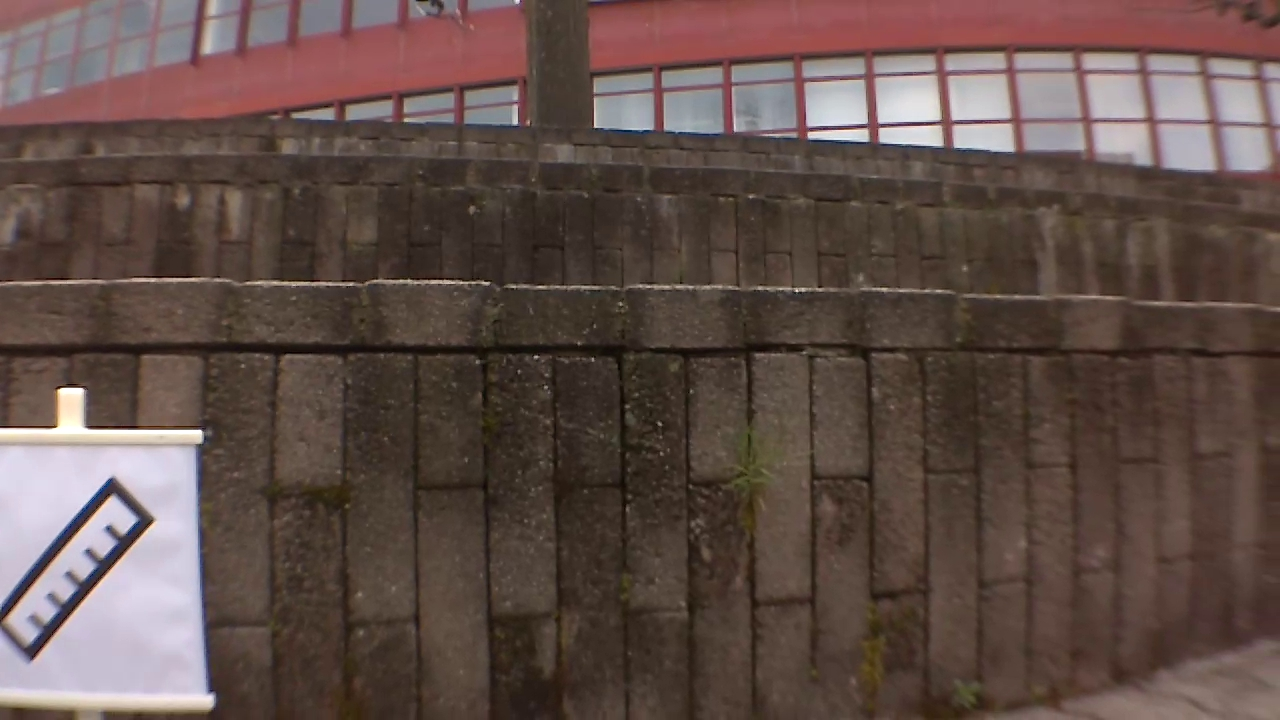ruler: (0, 474, 158, 668)
